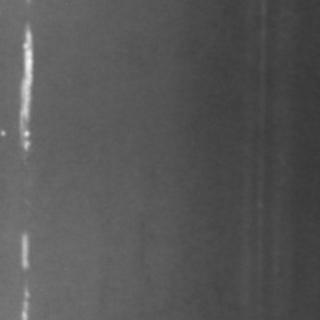scratches: (12, 21, 36, 155), (13, 229, 33, 317)
